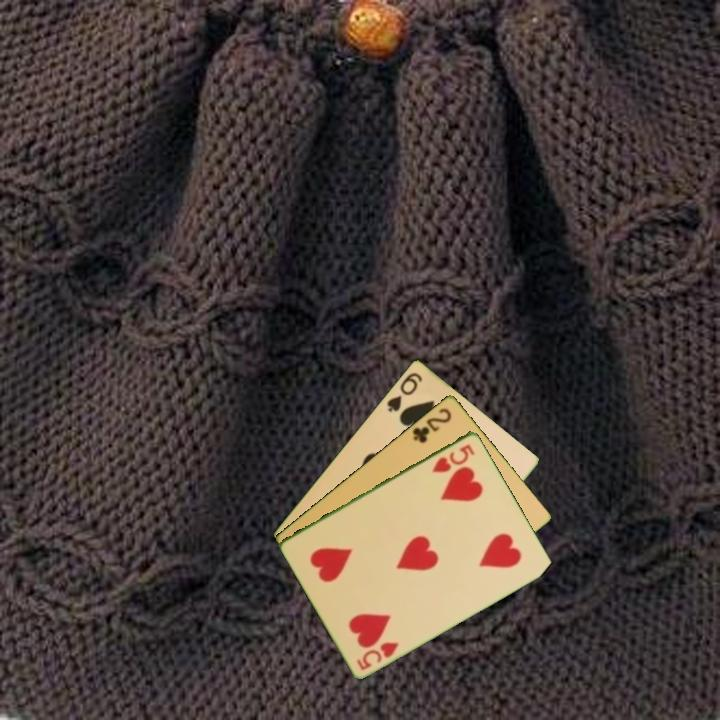2c: (409, 404, 454, 446)
5h: (429, 440, 478, 475), (353, 638, 402, 673)
6s: (383, 369, 425, 415)
